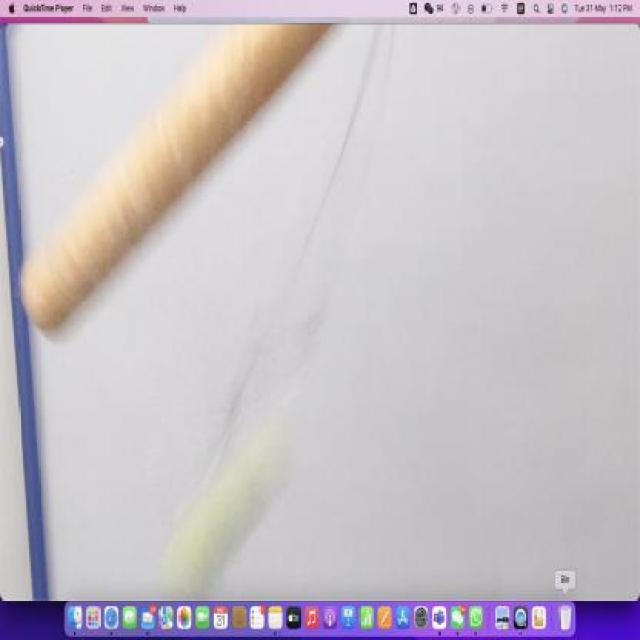baseball: (161, 448, 287, 592)
